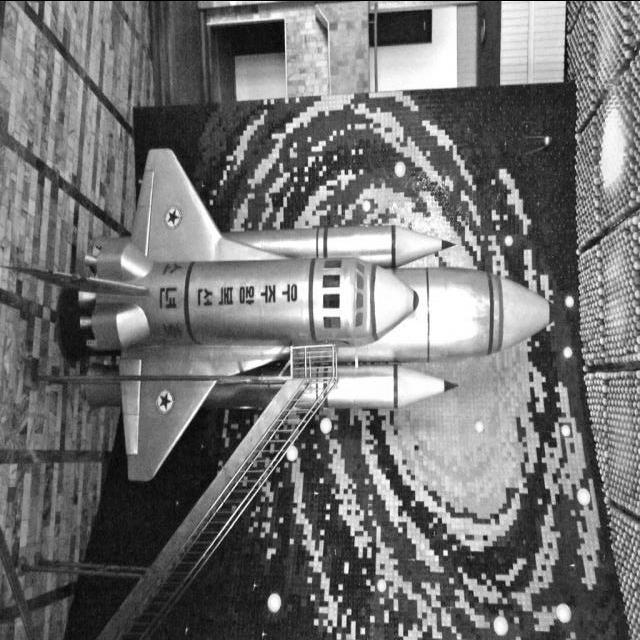missile: (83, 250, 416, 348), (231, 215, 465, 265), (318, 363, 468, 411)
